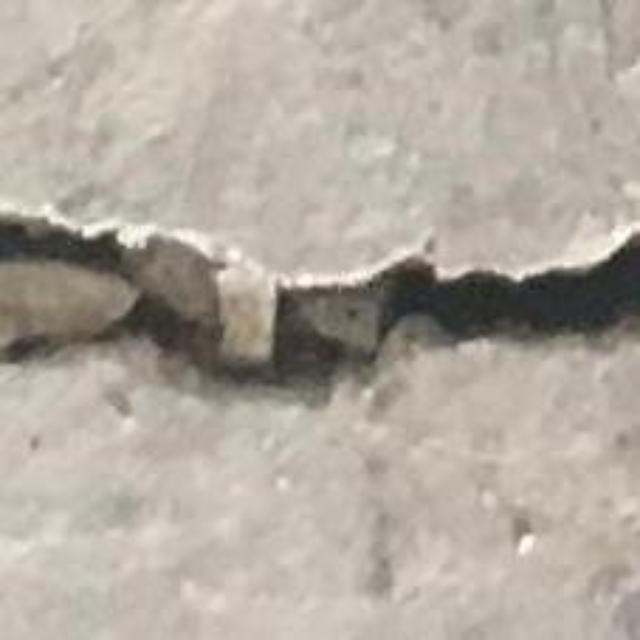crack: (0, 203, 639, 405)
